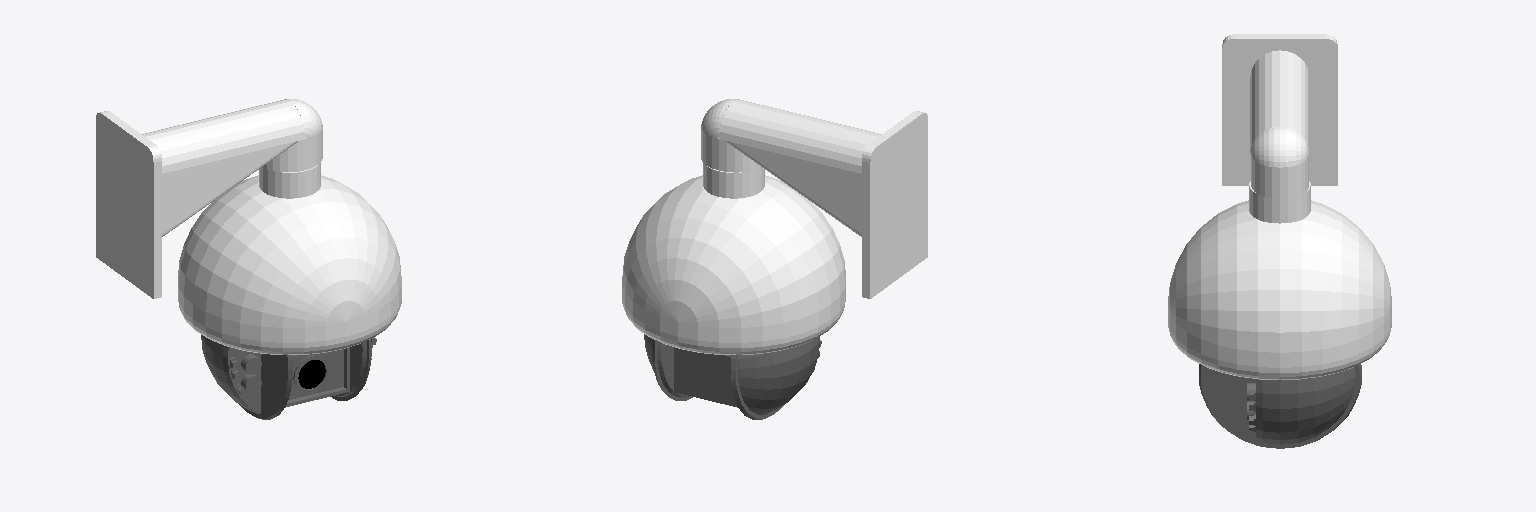
The picture shows the model from 3 angles: view 1: azimuth 30°, elevation 25°; view 2: azimuth 150°, elevation 25°; view 3: azimuth 270°, elevation 25°; orthographic projection.
Parts seen in each view (by area): view 1: bdl_yuanshexiangtou1; view 2: bdl_yuanshexiangtou1; view 3: bdl_yuanshexiangtou1.
Boxes of the visible parts, x1=… form: bdl_yuanshexiangtou1: x1=96, y1=99, x2=401, y2=419; bdl_yuanshexiangtou1: x1=622, y1=99, x2=927, y2=419; bdl_yuanshexiangtou1: x1=1168, y1=34, x2=1391, y2=448.
Bounding box in the file's own units: 30.16 × 34.59 × 22.36.
3 materials, 3 textured.